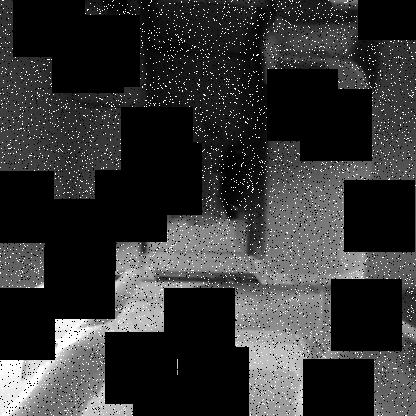Porte: (137, 1, 270, 262)
